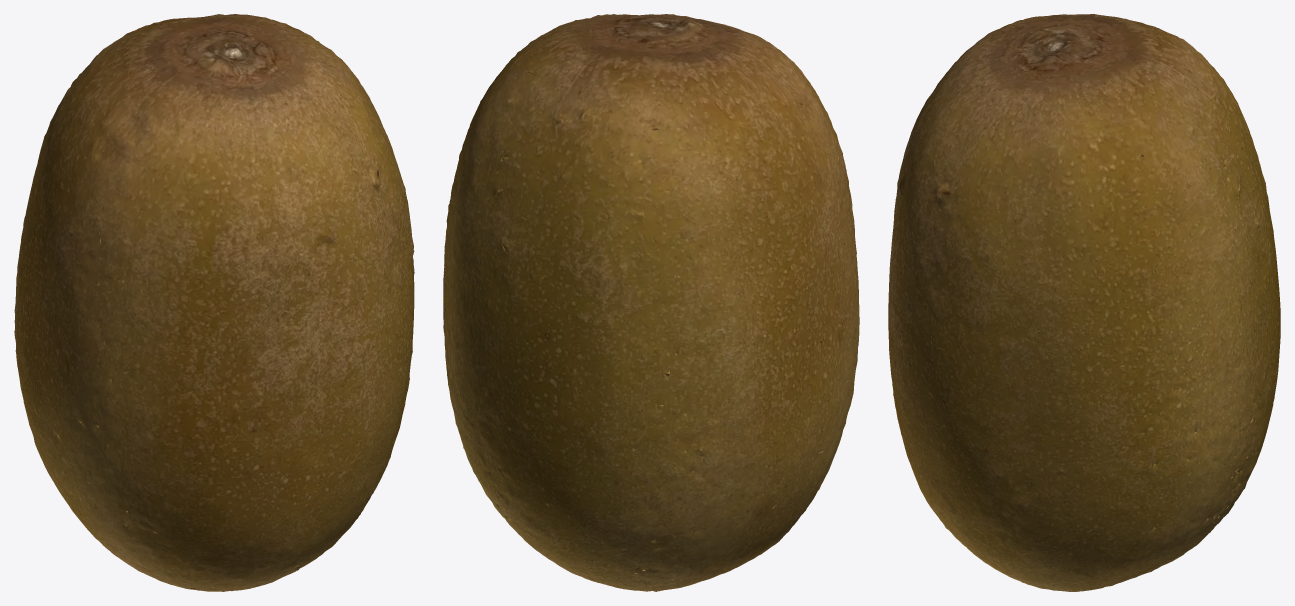
File: kiwi-transformed.glb
3 views of the same model, side by side, from view 1: azimuth 30°, elevation 25°; view 2: azimuth 150°, elevation 25°; view 3: azimuth 270°, elevation 25° (orthographic). The views are drawn at different scales.
Visible parts, largest first — view 1: Object_2; view 2: Object_2; view 3: Object_2.
Part boxes in pixels (bbox=[...]): Object_2: bbox=[14, 14, 414, 591]; Object_2: bbox=[443, 14, 859, 591]; Object_2: bbox=[888, 14, 1280, 591].
Size of the model in its own units: 19.73 by 28.9 by 19.42.
Materials: 1 (1 with a texture image).
